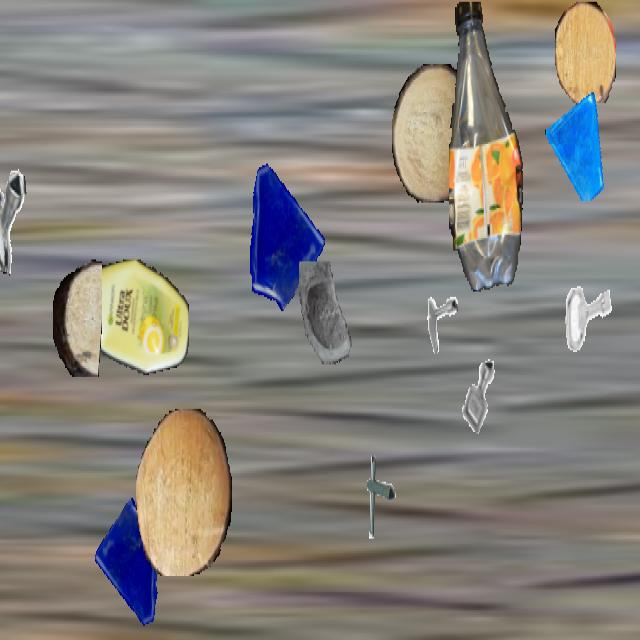glass: (237, 151, 327, 311), (93, 498, 171, 636), (293, 262, 361, 382), (545, 89, 607, 199)
metal: (0, 169, 59, 279), (557, 263, 617, 370), (451, 347, 507, 446), (352, 450, 404, 542), (416, 277, 458, 352)
plastic: (449, 2, 525, 290), (76, 259, 188, 377)
wood: (136, 409, 232, 576), (392, 64, 474, 203), (555, 2, 615, 105), (53, 258, 101, 375)
